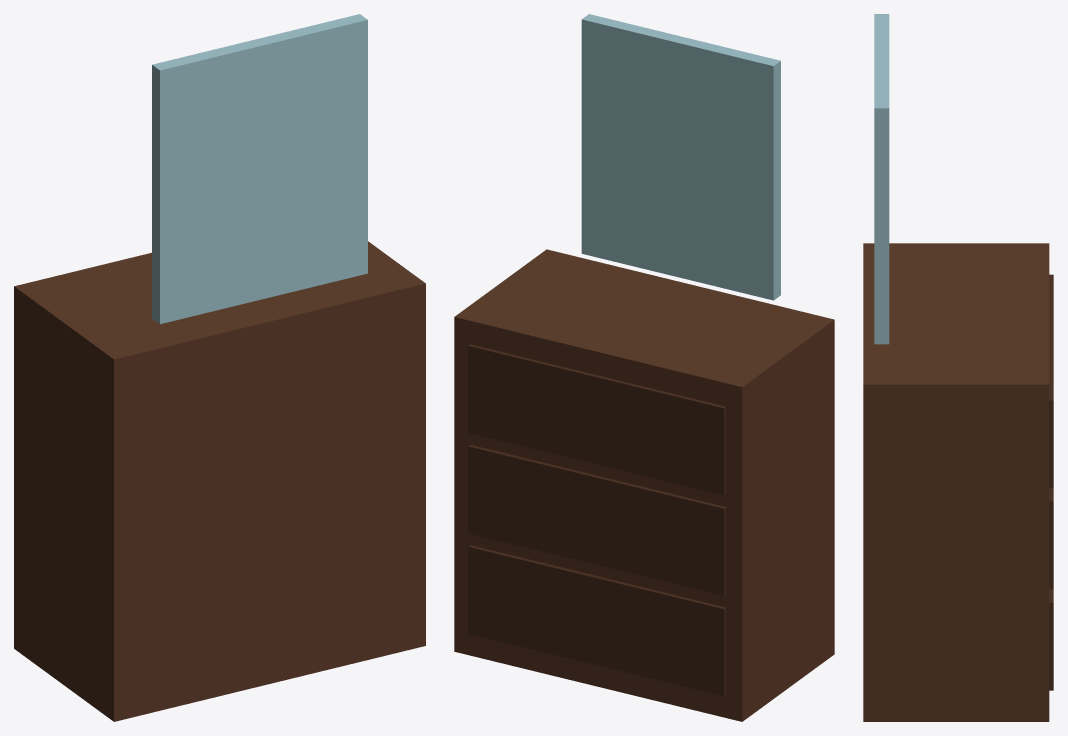
The model's file is parents_dresser.glb.
The picture shows the model from 3 angles, left to right: view 1: azimuth 30°, elevation 25°; view 2: azimuth 150°, elevation 25°; view 3: azimuth 270°, elevation 25°; orthographic projection. The views are drawn at different scales.
Visible parts, largest first — view 1: Box1, Box5; view 2: Box1, Box5, Box4, Box2, Box3; view 3: Box1, Box5, Box4, Box2, Box3.
Boxes of the visible parts, bbox=[...] form: Box1: bbox=[14, 241, 425, 721]; Box5: bbox=[152, 14, 367, 324]; Box1: bbox=[454, 249, 834, 721]; Box5: bbox=[581, 14, 780, 300]; Box4: bbox=[468, 344, 726, 495]; Box2: bbox=[468, 545, 726, 695]; Box3: bbox=[468, 445, 726, 595]; Box1: bbox=[863, 243, 1049, 721]; Box5: bbox=[874, 14, 889, 344]; Box4: bbox=[1049, 274, 1053, 488]; Box2: bbox=[1049, 589, 1053, 690]; Box3: bbox=[1049, 488, 1053, 589].
Bounding box in the file's own units: 0.9 × 1.75 × 0.512.
